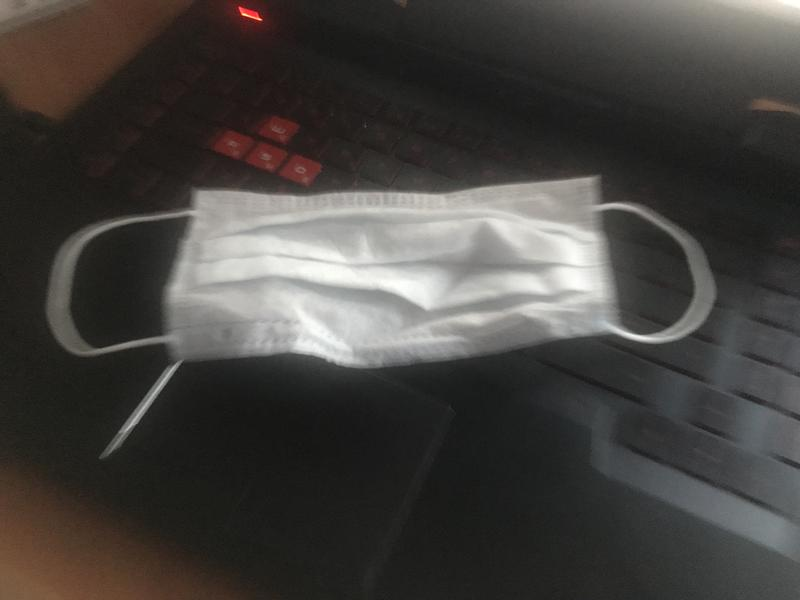medical_mask: (48, 181, 712, 360)
